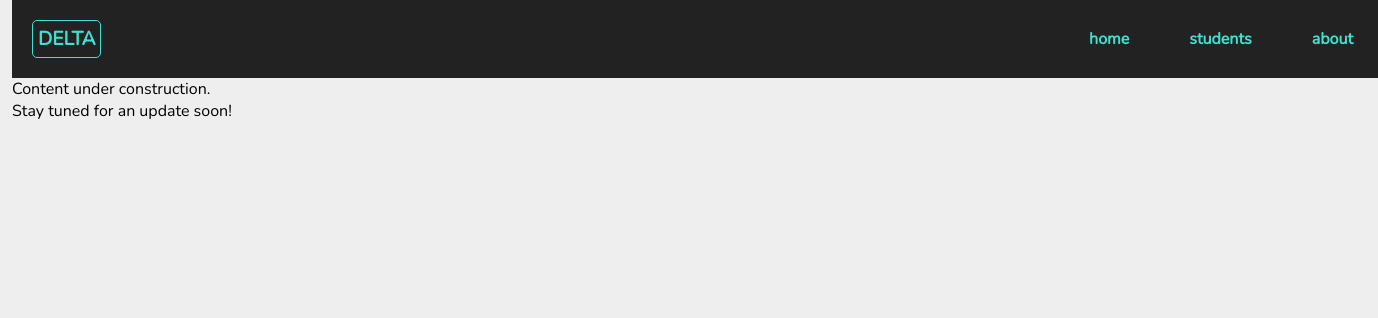
Test case: App pages navigation › Return to Home
This screenshot has width=1378, height=318.
Click the link "about" at [1332, 39], box x1=1312 y1=28 x2=1353 y2=50
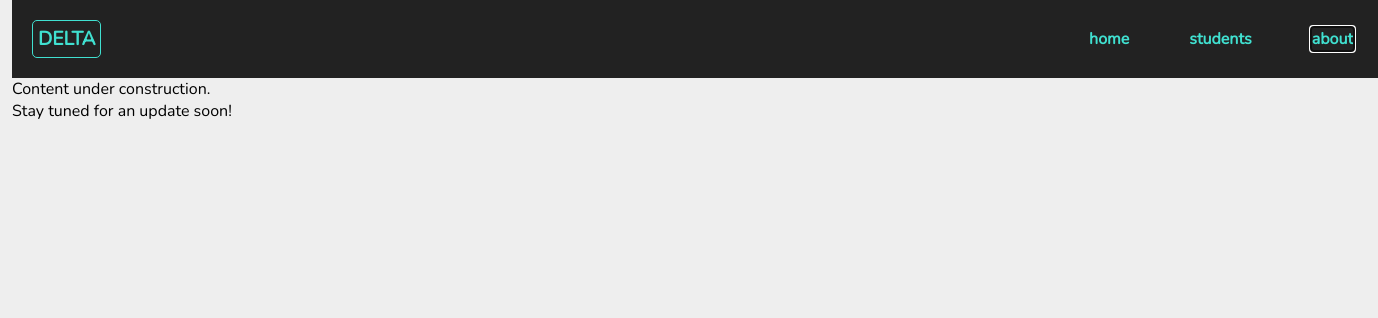
Check: the element with test id "about-comp" is shown, box x1=12 y1=78 x2=1377 y2=122
Click the link "home" at [1109, 39], box x1=1089 y1=28 x2=1129 y2=50
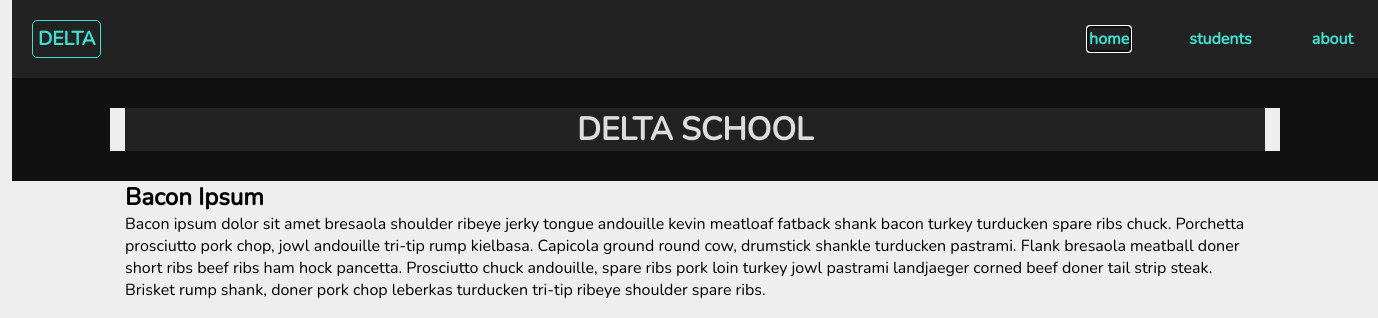
Check: the element with test id "home-comp" is shown
